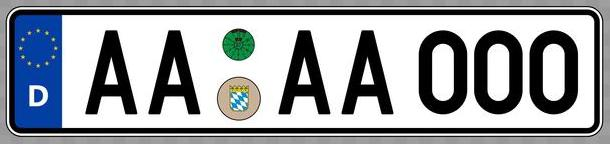A: (147, 24, 205, 118), (84, 25, 141, 119), (339, 24, 395, 118), (279, 24, 333, 119)
O: (412, 28, 470, 115), (528, 25, 581, 116), (473, 25, 526, 116)
